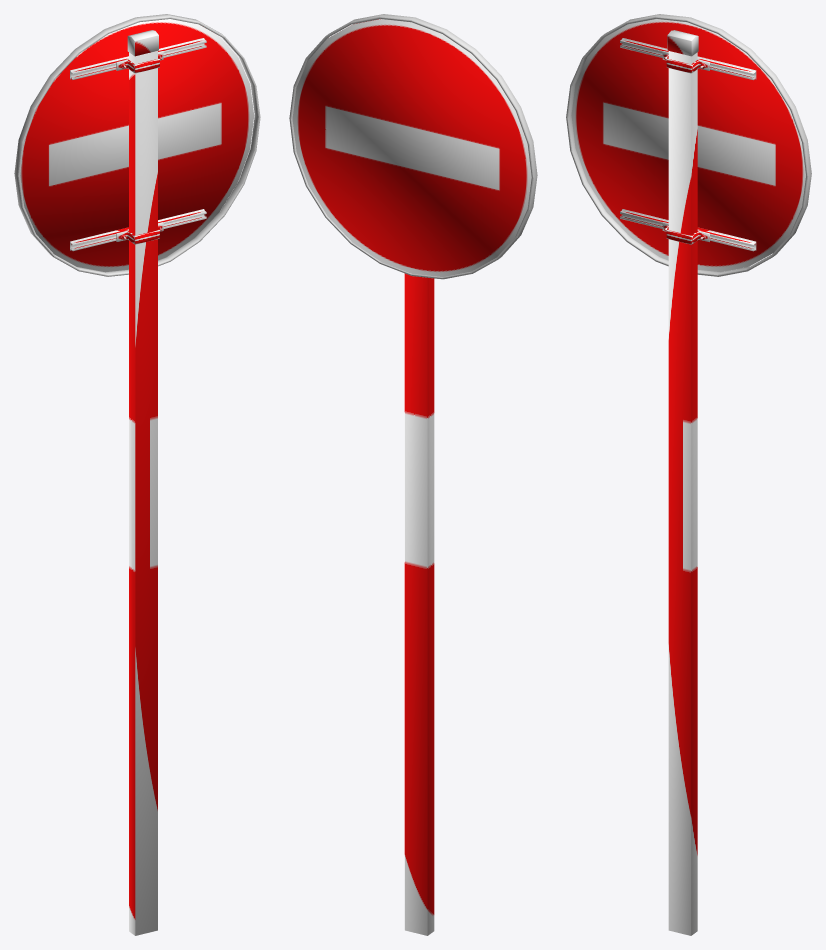
Rendered from signNoEntry.fbx.
3 renders of one model, left to right at view 1: azimuth 30°, elevation 25°; view 2: azimuth 150°, elevation 25°; view 3: azimuth 330°, elevation 25°, orthographic.
Parts seen in each view (by area): view 1: fond_panneau_interdit01, poteau01, cercle_panneau_interdit01, rail07; view 2: fond_panneau_interdit01, poteau01, cercle_panneau_interdit01; view 3: fond_panneau_interdit01, poteau01, cercle_panneau_interdit01, rail07.
Boxes of the visible parts, <box> form: fond_panneau_interdit01: <box>20,19,254,272</box>; poteau01: <box>127,30,158,935</box>; cercle_panneau_interdit01: <box>14,14,260,276</box>; rail07: <box>70,38,206,251</box>; fond_panneau_interdit01: <box>292,19,531,276</box>; poteau01: <box>404,273,434,935</box>; cercle_panneau_interdit01: <box>289,14,537,279</box>; fond_panneau_interdit01: <box>571,19,805,272</box>; poteau01: <box>667,30,698,935</box>; cercle_panneau_interdit01: <box>566,14,811,276</box>; rail07: <box>620,38,756,251</box>.
Bounding box in the file's own units: 3347 × 11980 × 294.
2 materials, 2 textured.
